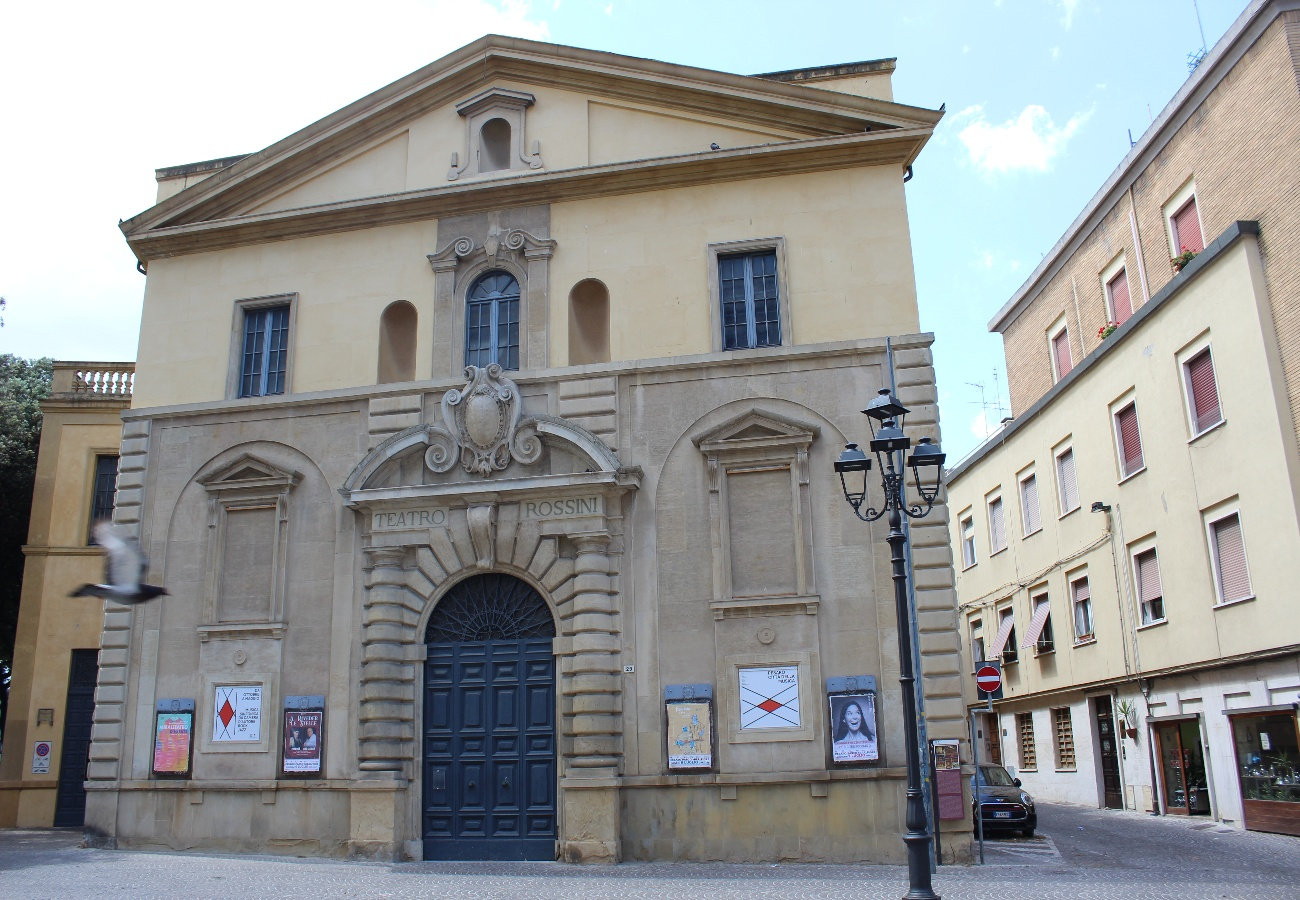Teatro Rossini: (81, 32, 988, 868)
